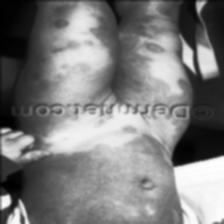Toxin: (62, 38, 96, 50), (145, 41, 167, 53), (55, 18, 68, 28)
